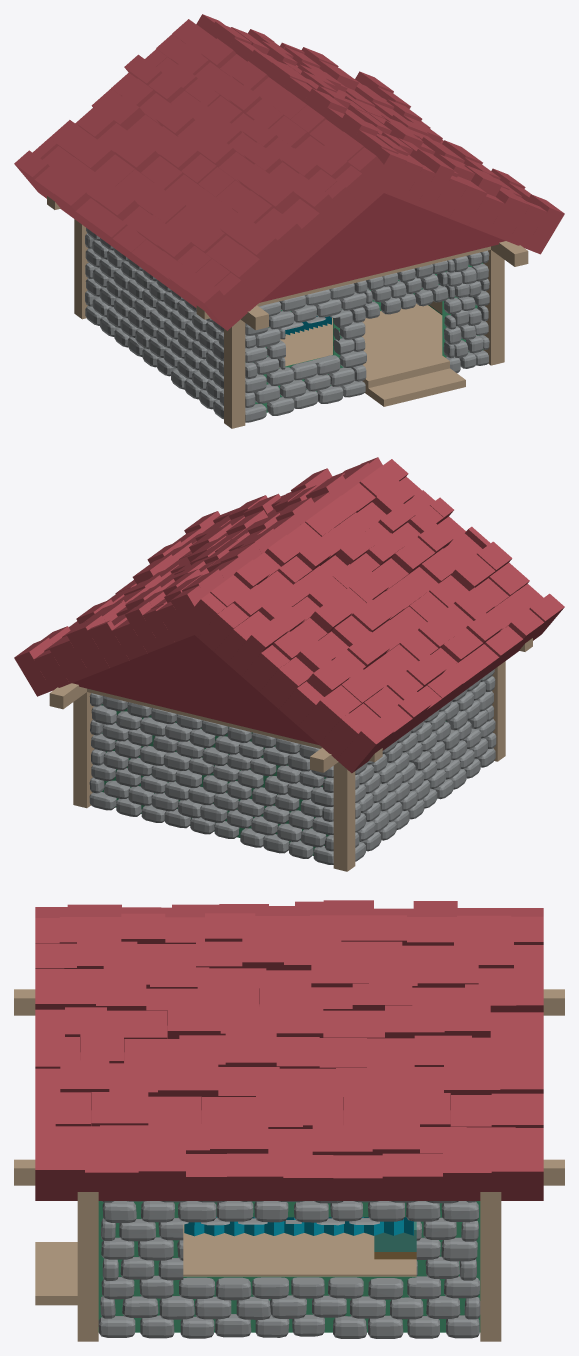
Rendered from house_1b.glb.
3 views of the same model, one above another, from view 1: azimuth 30°, elevation 25°; view 2: azimuth 150°, elevation 25°; view 3: azimuth 270°, elevation 25° (orthographic). The views are drawn at different scales.
Visible parts, largest first — view 1: Mesh_Mesh_head_geo.001_lambert2SG.001; view 2: Mesh_Mesh_head_geo.001_lambert2SG.001; view 3: Mesh_Mesh_head_geo.001_lambert2SG.001.
Part boxes in pixels (bbox=[...]): Mesh_Mesh_head_geo.001_lambert2SG.001: bbox=[14, 14, 564, 428]; Mesh_Mesh_head_geo.001_lambert2SG.001: bbox=[14, 457, 564, 871]; Mesh_Mesh_head_geo.001_lambert2SG.001: bbox=[14, 900, 564, 1341].
Size of the model in its own units: 26.53 by 18.07 by 26.
